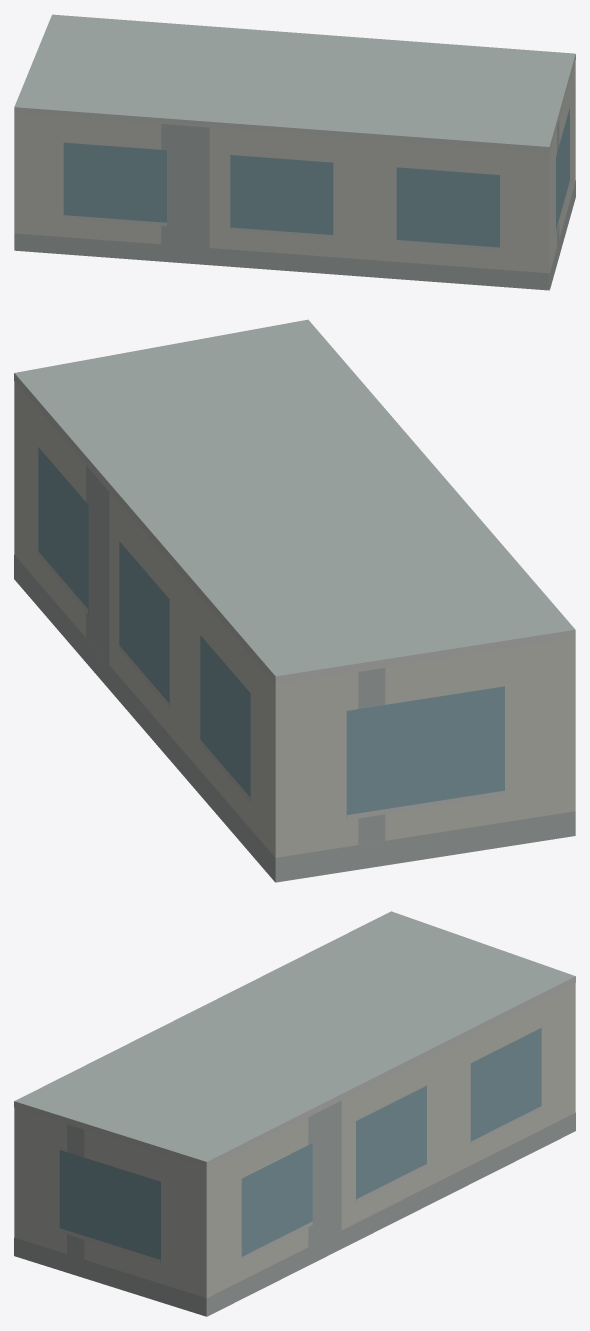
Rendered from residential-c9f7f5d5-b723-4497-bb5e-ccad5b863ba3.glb.
3 renders of one model, top to bottom at view 1: azimuth 30°, elevation 25°; view 2: azimuth 150°, elevation 25°; view 3: azimuth 270°, elevation 25°, orthographic. The views are drawn at different scales.
Parts seen in each view (by area): view 1: residential-c9f7f5d5-b723-4497-bb5e-ccad5b863ba3.tmp; view 2: residential-c9f7f5d5-b723-4497-bb5e-ccad5b863ba3.tmp; view 3: residential-c9f7f5d5-b723-4497-bb5e-ccad5b863ba3.tmp.
Part boxes in pixels (left/top/right/bottom): residential-c9f7f5d5-b723-4497-bb5e-ccad5b863ba3.tmp: left=14, top=14, right=575, bottom=290; residential-c9f7f5d5-b723-4497-bb5e-ccad5b863ba3.tmp: left=14, top=319, right=575, bottom=882; residential-c9f7f5d5-b723-4497-bb5e-ccad5b863ba3.tmp: left=14, top=911, right=575, bottom=1316.
Bounding box in the file's own units: 10.61 × 3.05 × 10.04.
